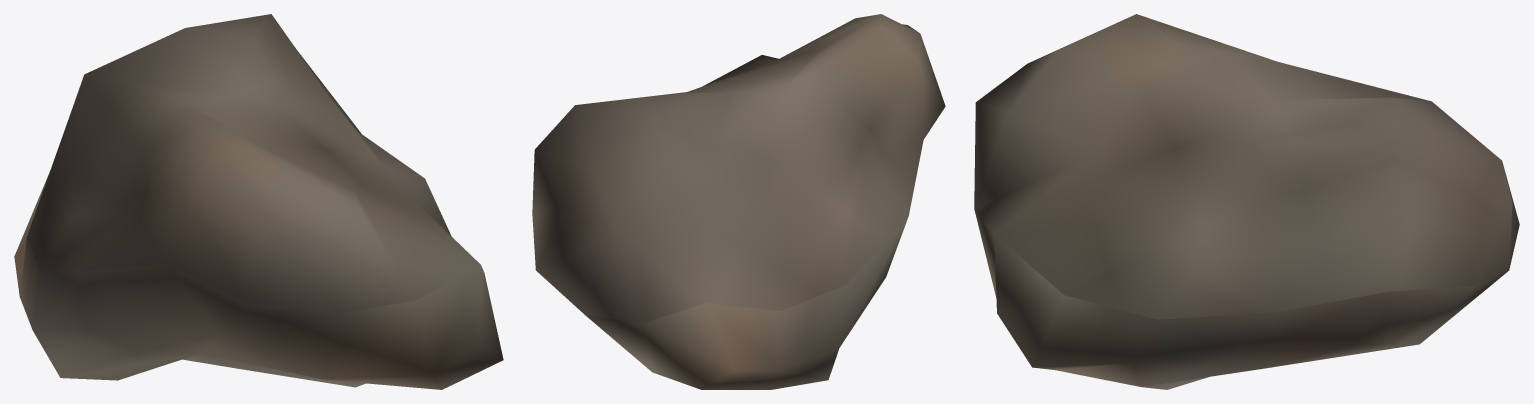
The model's file is rock_Tiny_001.fbx.
3 renders of one model, left to right at view 1: azimuth 30°, elevation 25°; view 2: azimuth 150°, elevation 25°; view 3: azimuth 270°, elevation 25°, orthographic. The views are drawn at different scales.
Visible parts, largest first — view 1: rock_Tiny.001; view 2: rock_Tiny.001; view 3: rock_Tiny.001.
Boxes of the visible parts, <box> form: rock_Tiny.001: <box>14,14,503,389</box>; rock_Tiny.001: <box>532,14,945,389</box>; rock_Tiny.001: <box>974,14,1519,389</box>.
Bounding box in the file's own units: 32.98 × 27.81 × 46.44.
Materials: 1 (1 with a texture image).
